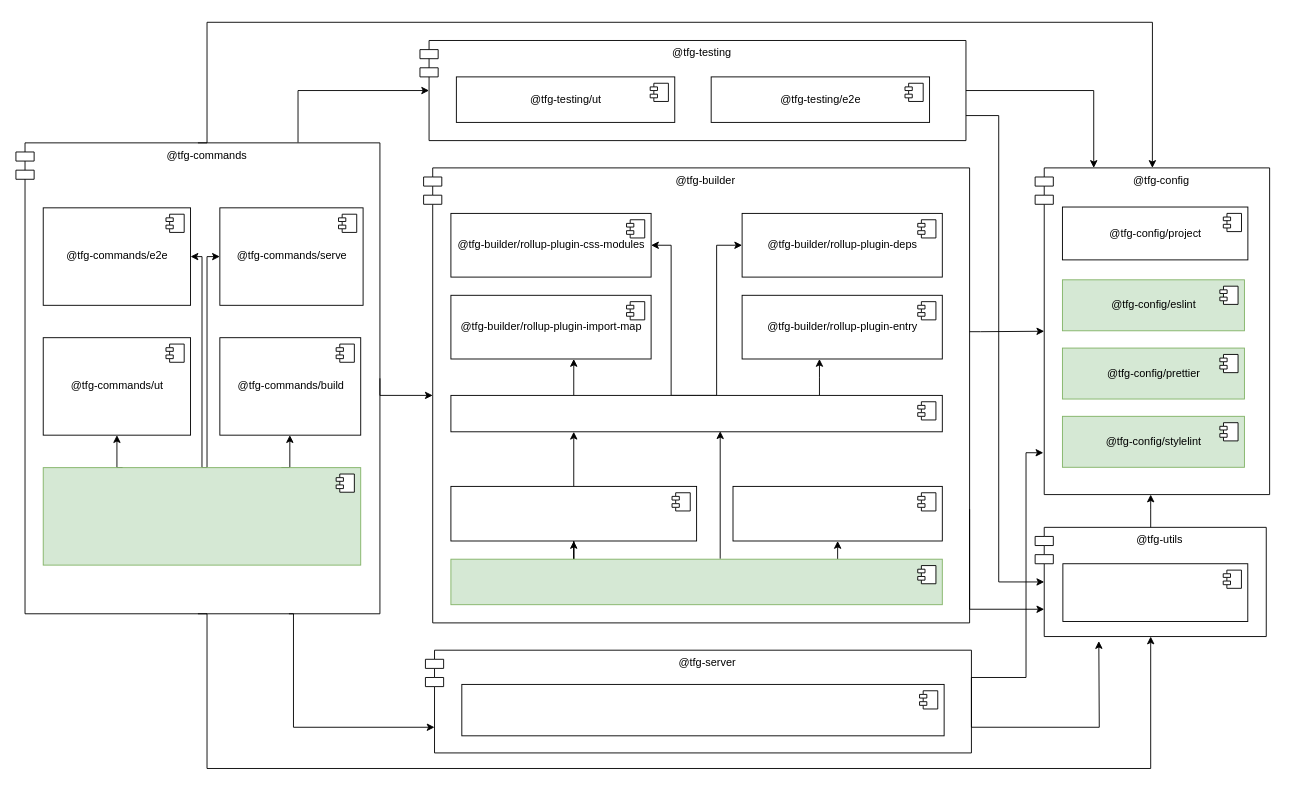
The diagram is 1311 pixels wide and 812 high, and some of its shapes have lost their labels. Each missing label, with the centre of its shape:
"@tfg-builder/builder" belongs at point (696, 581).
"@tfg-builder/import-map" belongs at point (837, 513).
"@tfg-builder/rollup-config" belongs at point (696, 413).
"@tfg-builder/rollup-runner" belongs at point (573, 513).
"@tfg-commands/cli" belongs at point (201, 516).
"@tfg-server/dev-server" belongs at point (702, 710).
"@tfg-utils/repo" belongs at point (1155, 592).
